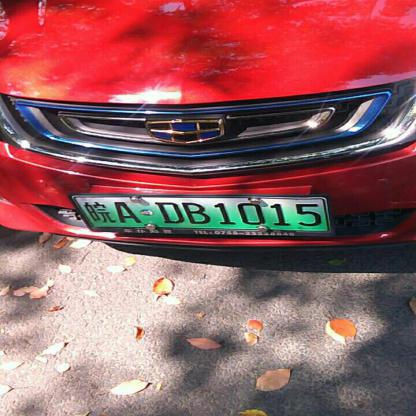lp: (74, 196, 328, 229)
